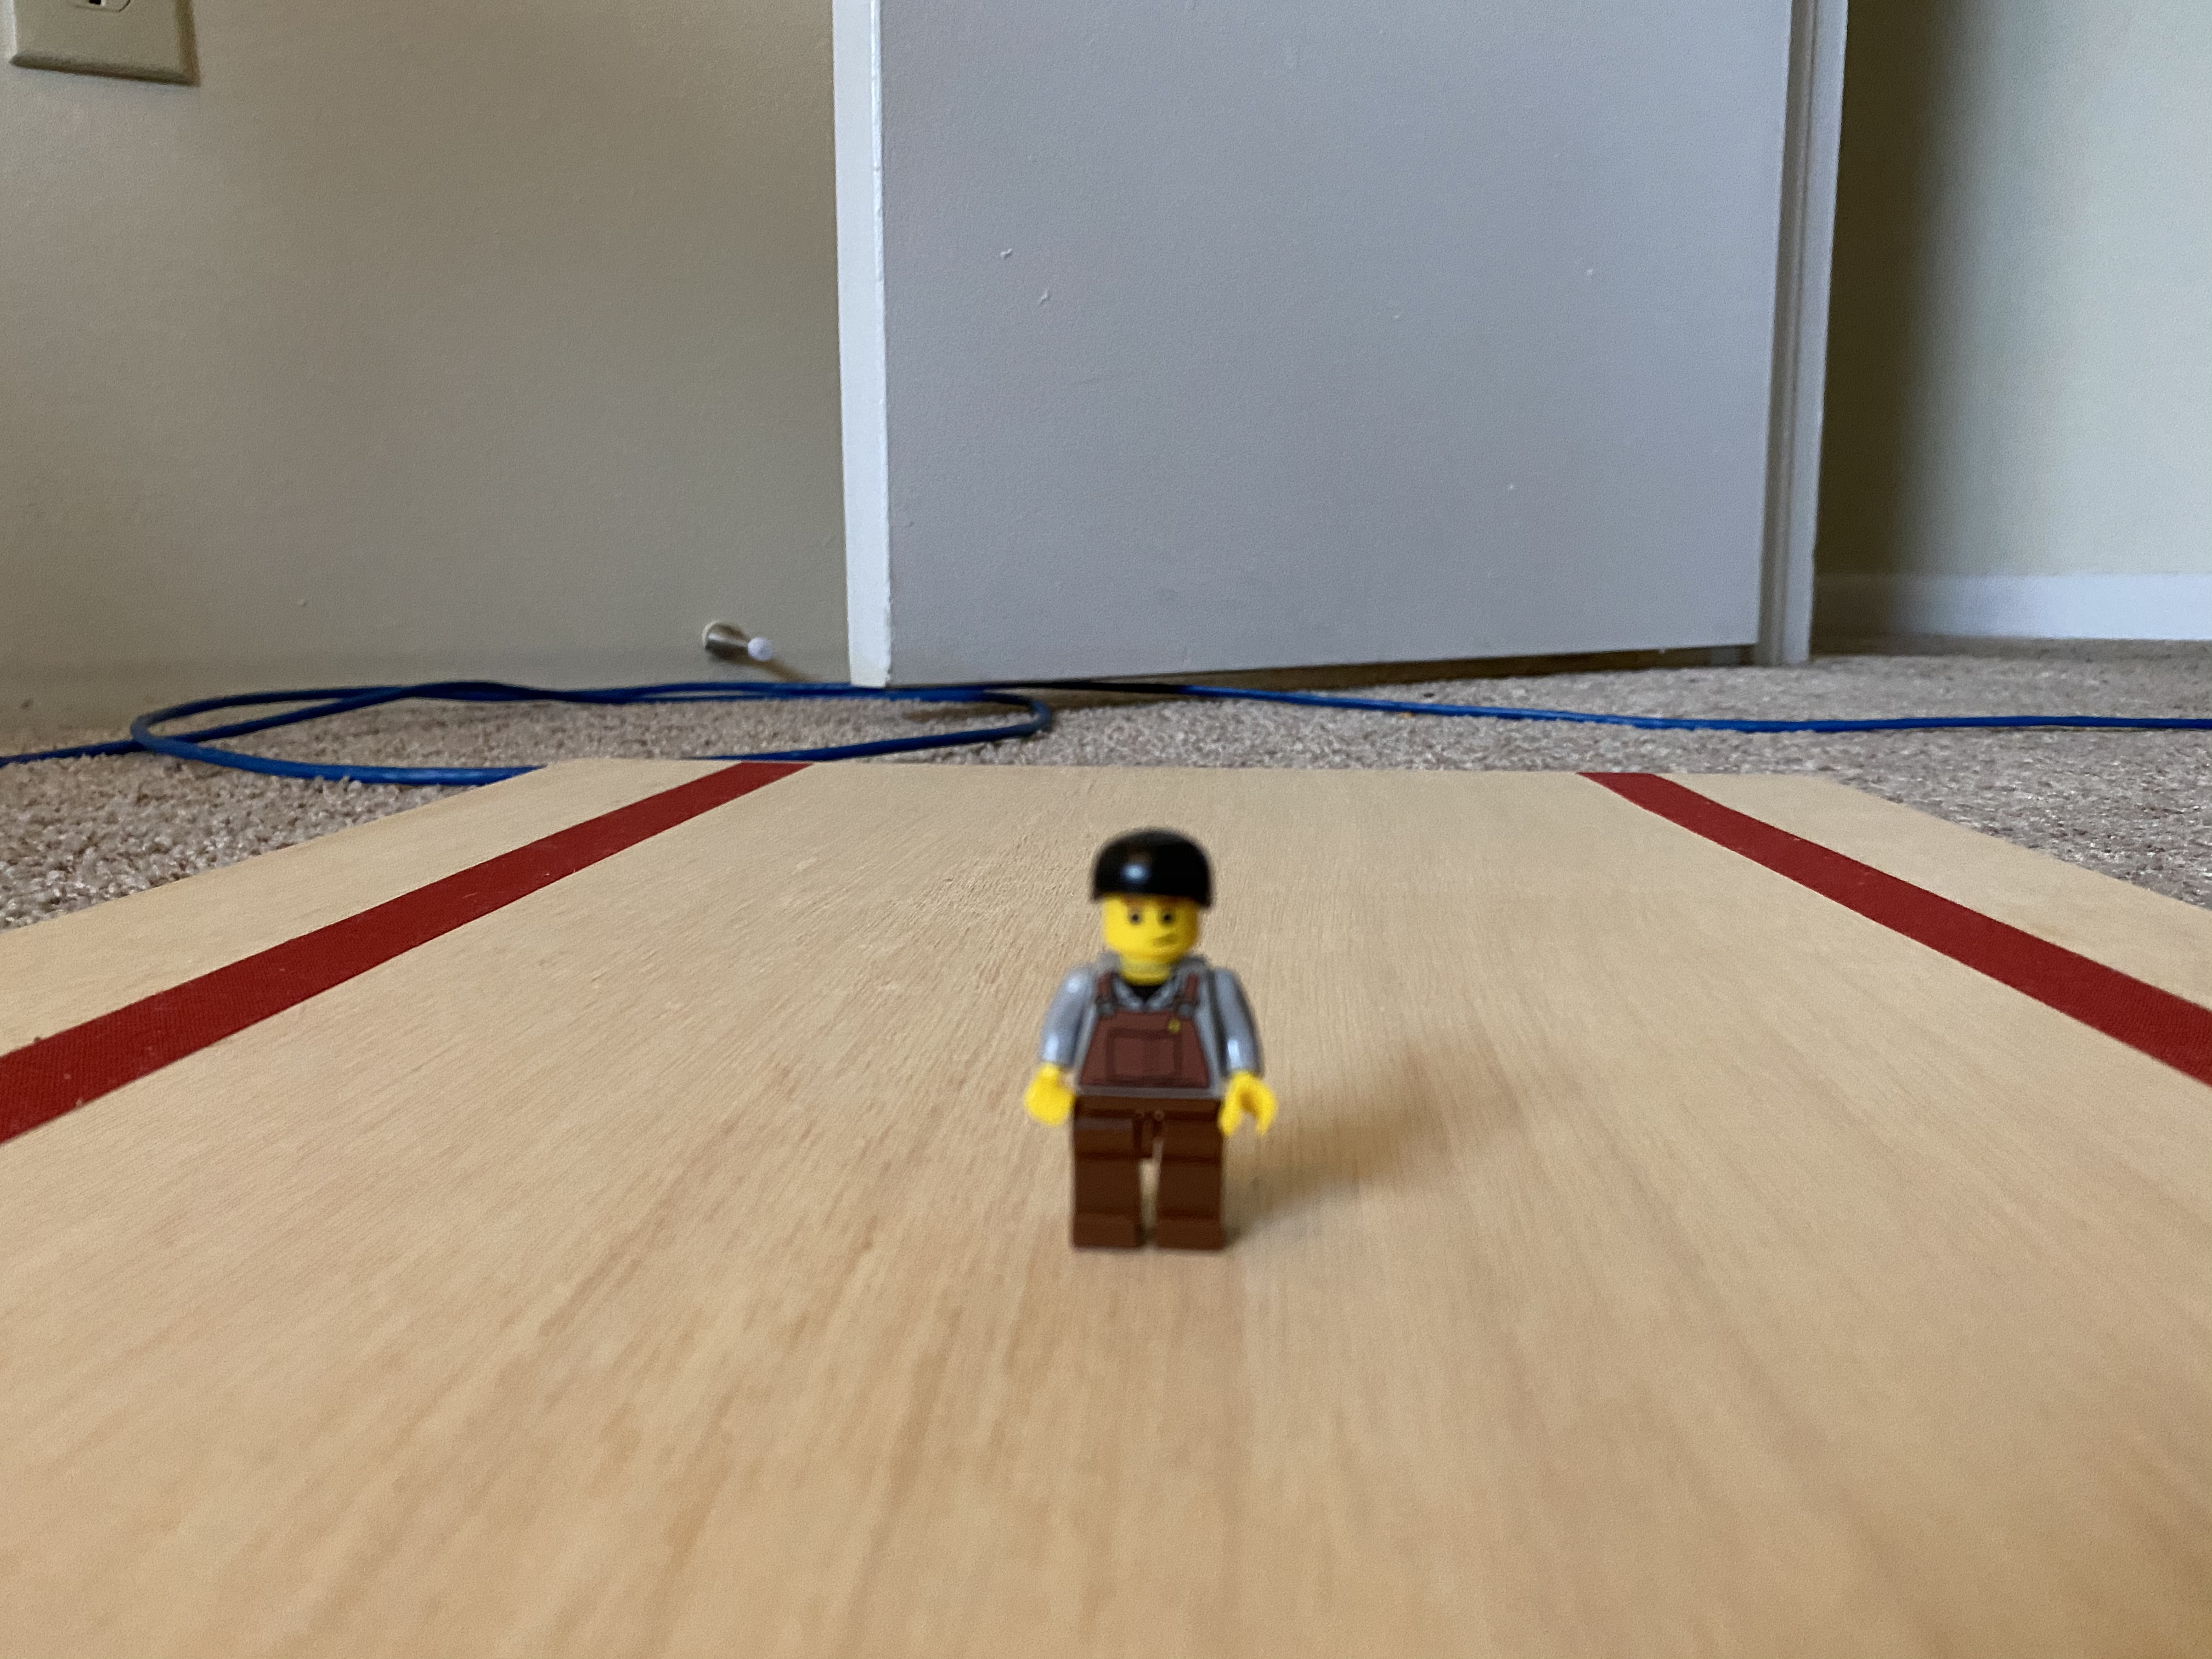Person: (992, 820, 1307, 1277)
